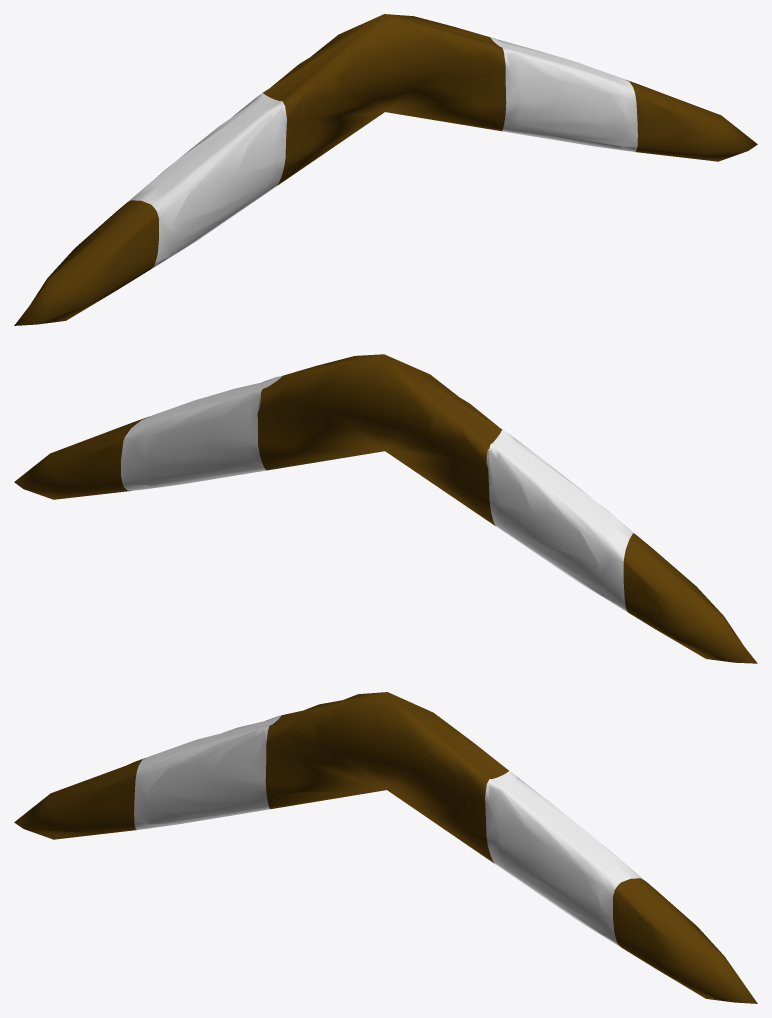
The model's file is Boomerang.fbx.
The picture shows the model from 3 angles, top to bottom: view 1: azimuth 30°, elevation 25°; view 2: azimuth 150°, elevation 25°; view 3: azimuth 330°, elevation 25°; orthographic projection.
Parts seen in each view (by area): view 1: pPlane1; view 2: pPlane1; view 3: pPlane1.
Part boxes in pixels (bbox=[...]): pPlane1: bbox=[14, 14, 757, 325]; pPlane1: bbox=[14, 354, 757, 663]; pPlane1: bbox=[14, 692, 757, 1003].
Bounding box in the file's own units: 1.91 × 0.543 × 0.1238.
